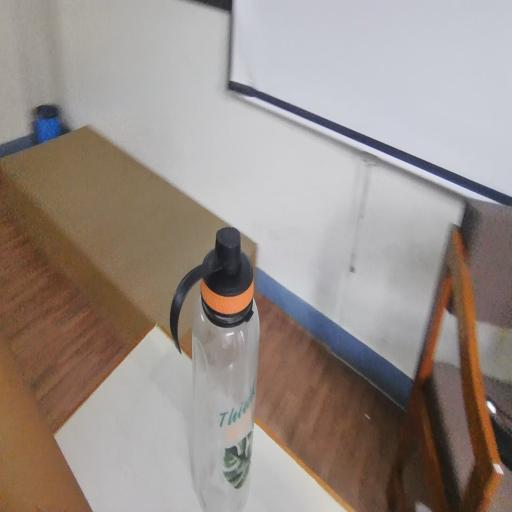Bottle: (177, 244, 295, 476)
